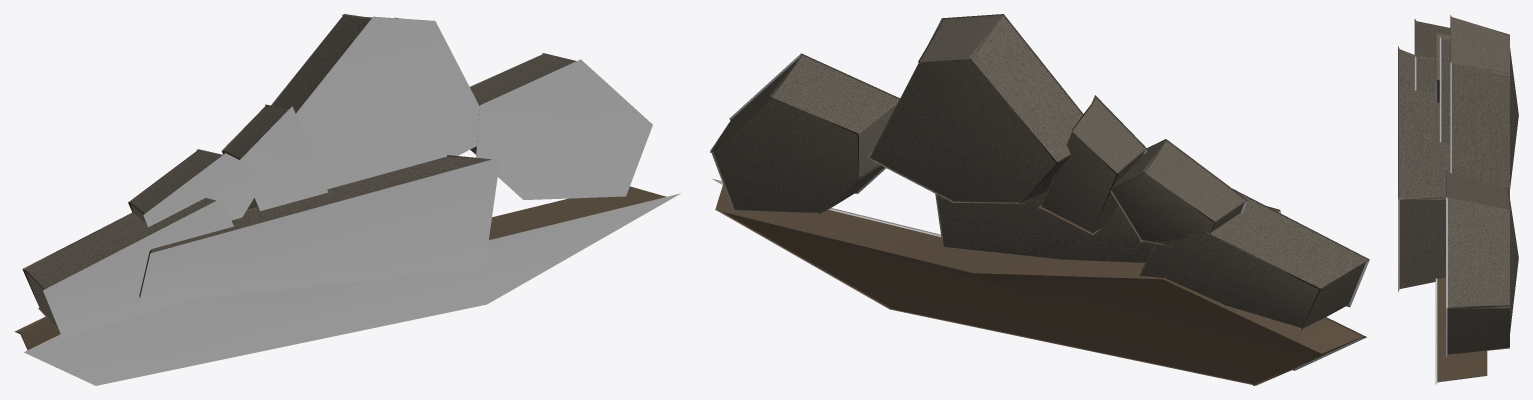
The model's file is SM_GIA_BloodAxeCairnSlabCluster_A01_GameReady_LOD2.fbx.
The picture shows the model from 3 angles, left to right: view 1: azimuth 30°, elevation 25°; view 2: azimuth 150°, elevation 25°; view 3: azimuth 270°, elevation 25°; orthographic projection. The views are drawn at different scales.
Visible parts, largest first — view 1: SM_GIA_BloodAxeCairnSlabCluster_A01_GameReady_LOD2_GameReady (×7); view 2: SM_GIA_BloodAxeCairnSlabCluster_A01_GameReady_LOD2_GameReady (×7); view 3: SM_GIA_BloodAxeCairnSlabCluster_A01_GameReady_LOD2_GameReady (×7).
Boxes of the visible parts, x1,y1,x2,y2 form: SM_GIA_BloodAxeCairnSlabCluster_A01_GameReady_LOD2_GameReady (×7): (14, 14, 680, 385); SM_GIA_BloodAxeCairnSlabCluster_A01_GameReady_LOD2_GameReady (×7): (710, 14, 1369, 385); SM_GIA_BloodAxeCairnSlabCluster_A01_GameReady_LOD2_GameReady (×7): (1398, 15, 1518, 384).
Bounding box in the file's own units: 5800 × 34701 × 15531.
